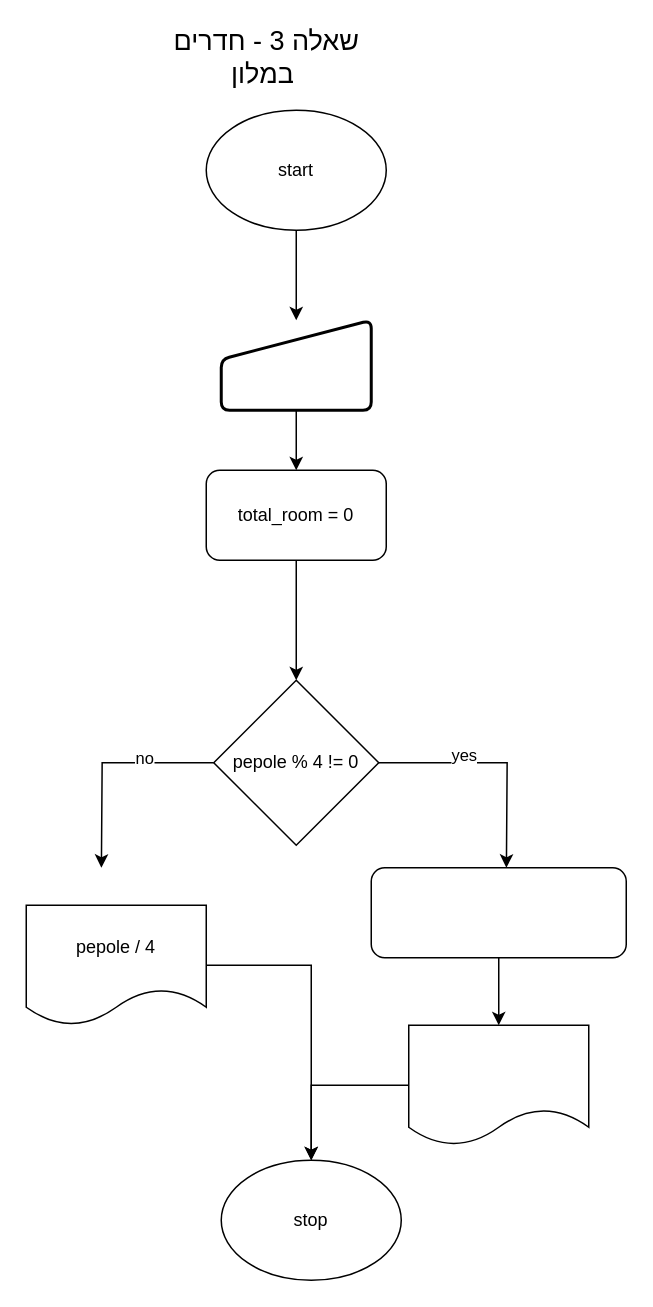
The diagram is 653 pixels wide and 1307 high, and some of its shapes have lost their labels. Each missing label, with the centre of its shape:
pepole: (295,364)
pepole % 4 total_room: (498,1084)
total_room = (pepole//4)/+1: (498,912)
